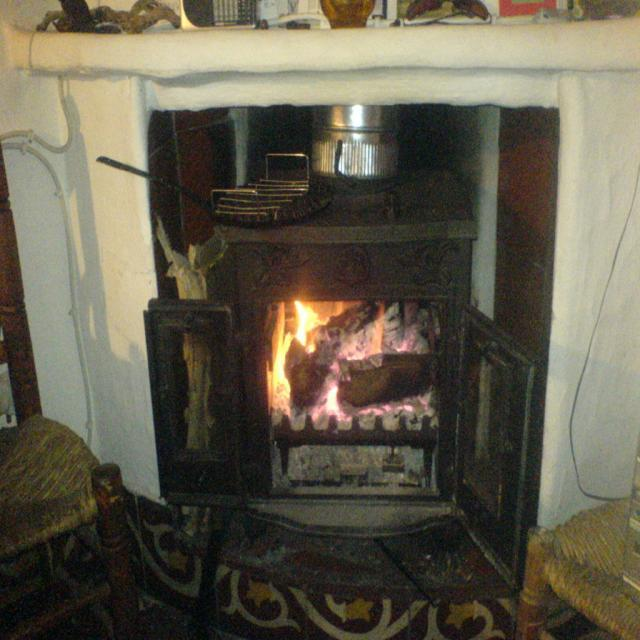Fire: (257, 294, 337, 417)
